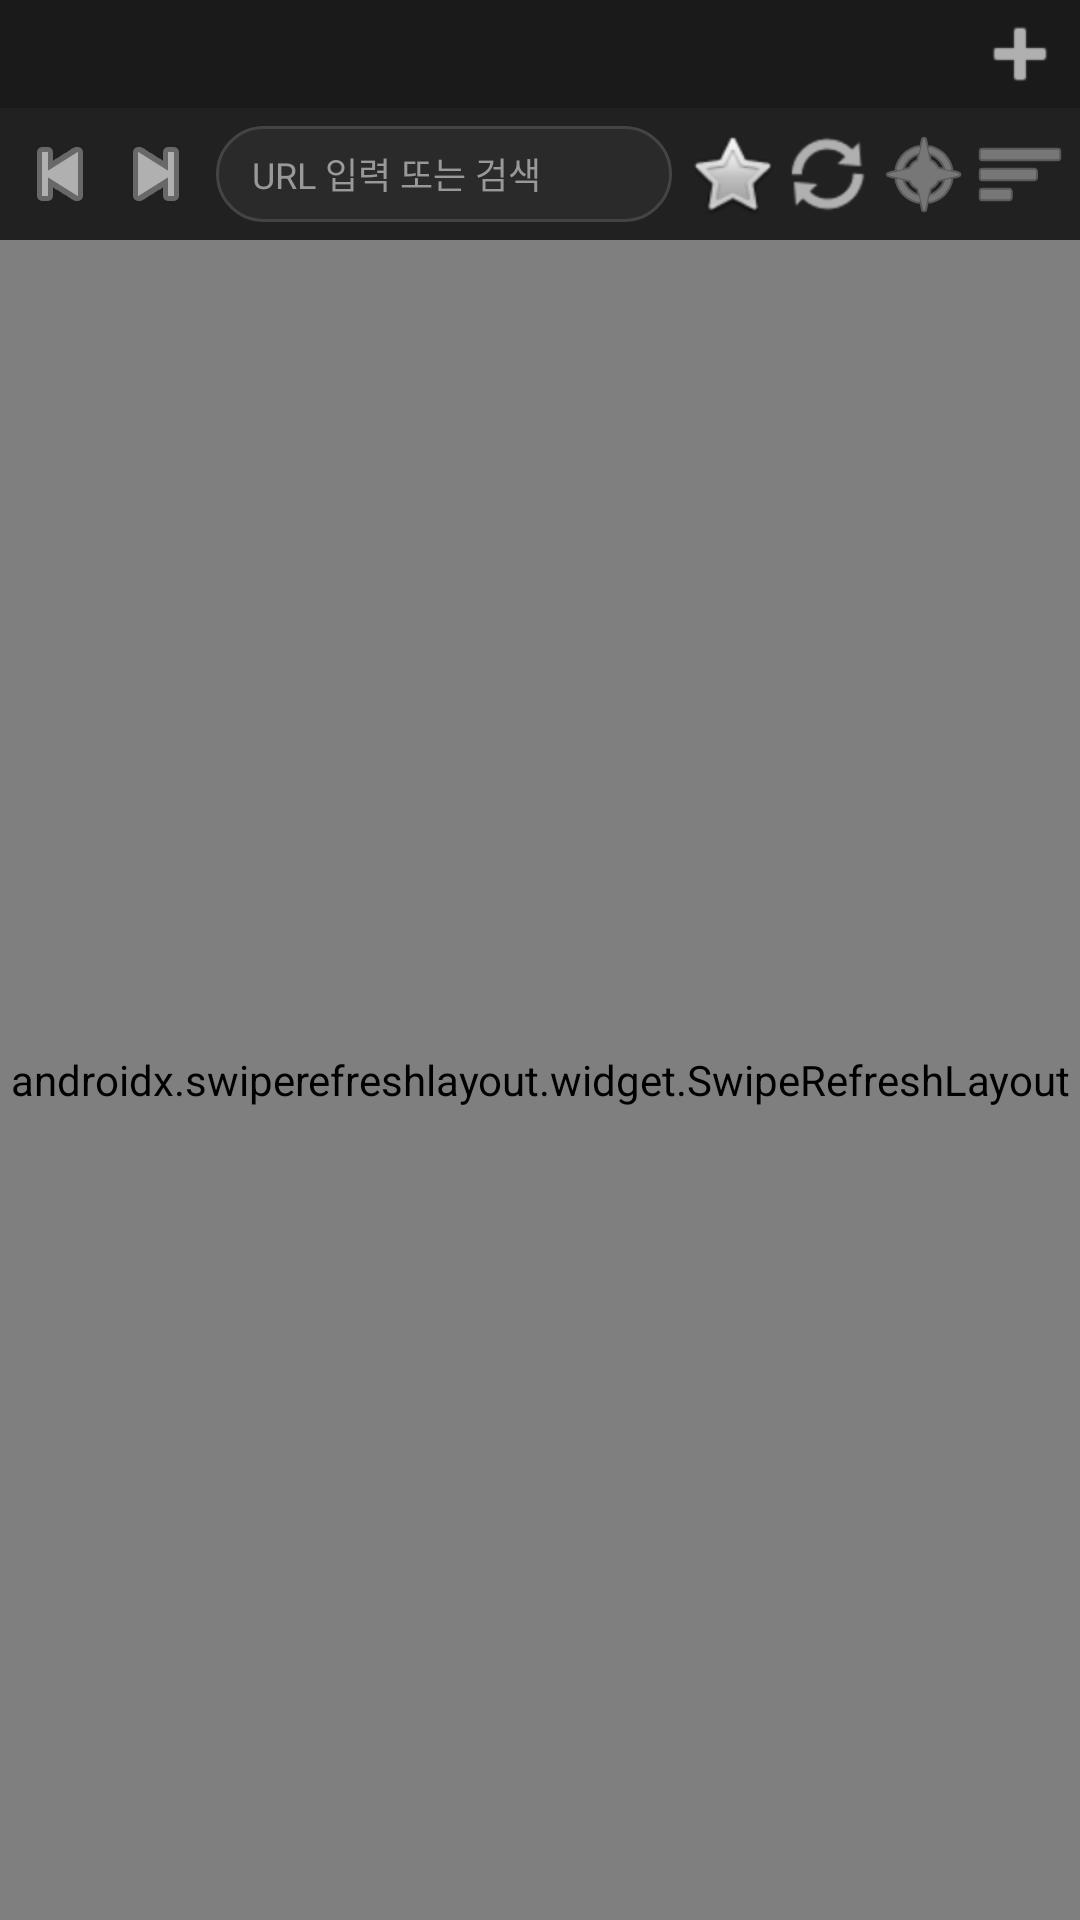

Icon click points for this 1080*1920 phone screenshot, format [x,y]:
compass: [923,174]
뒤로: [60,174]
새 탭: [1020,54]
앞으로: [156,174]
즐겨찾기 추가: [733,173]
